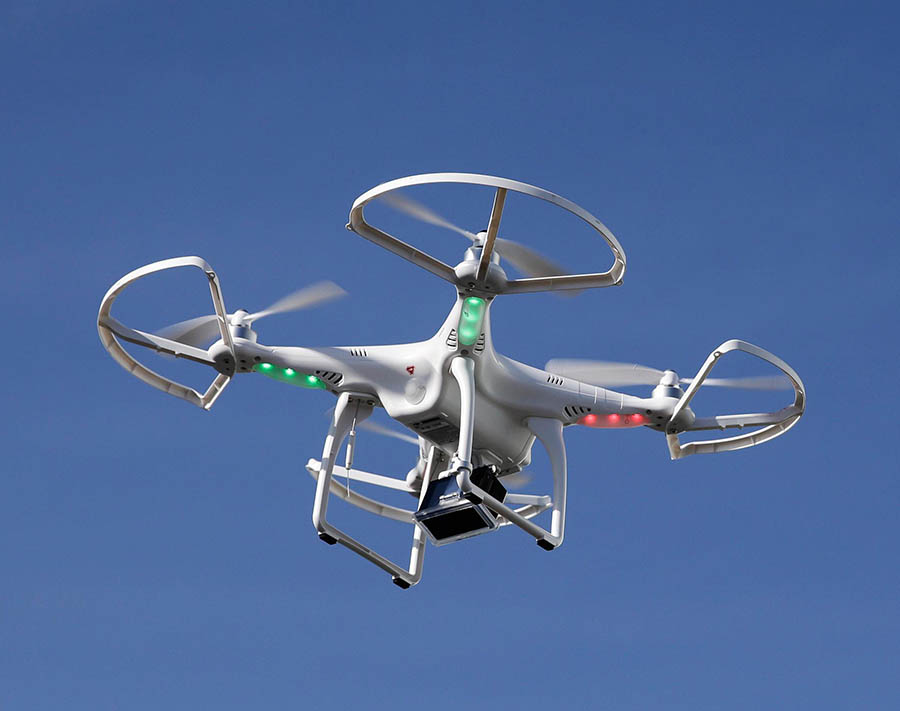drone: (88, 163, 817, 598)
